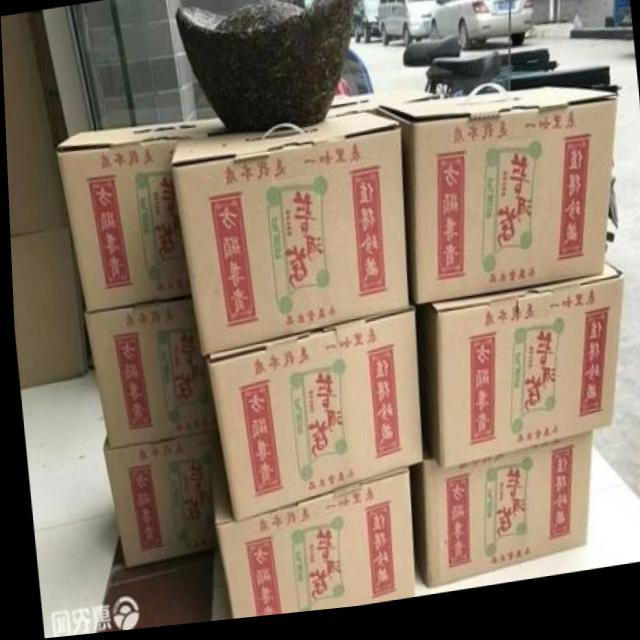box: (170, 117, 407, 359), (372, 97, 616, 314), (202, 318, 418, 525), (417, 277, 620, 477), (208, 451, 409, 623), (54, 122, 223, 315), (403, 442, 589, 597), (82, 301, 213, 449), (101, 435, 216, 570), (1, 13, 67, 235), (8, 227, 87, 390)
